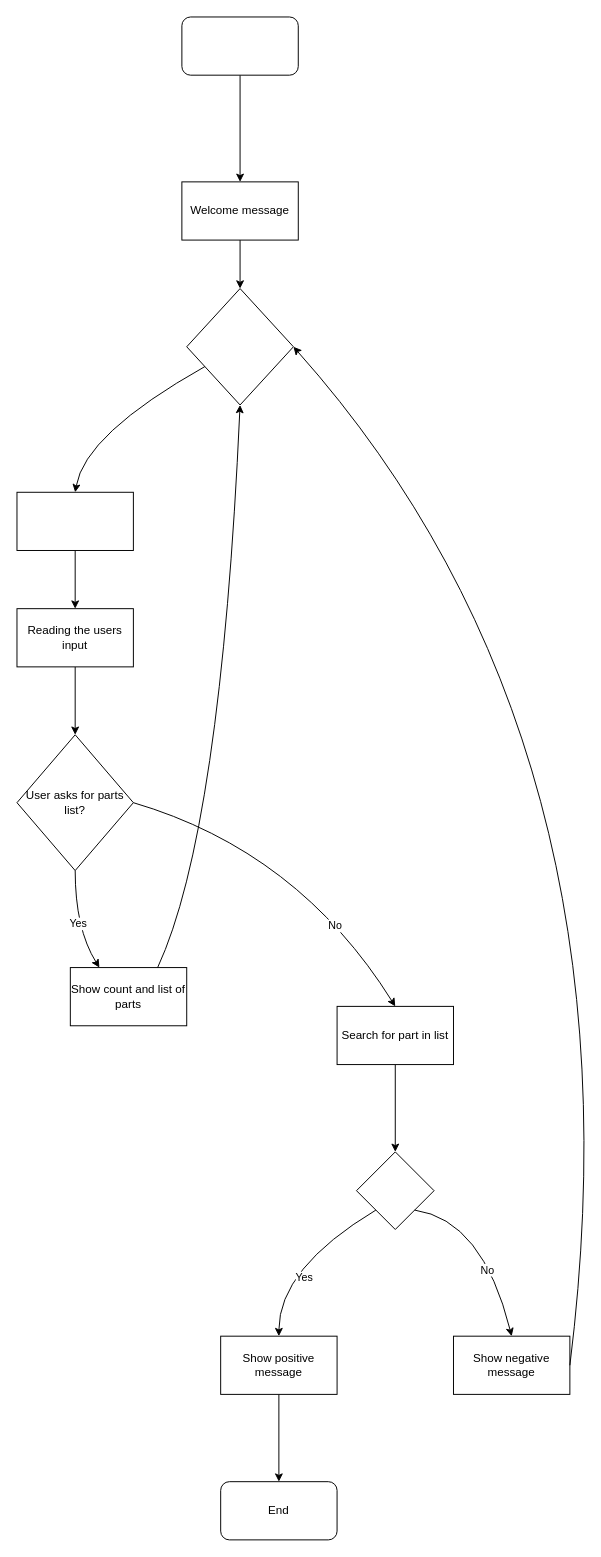
Image size: 601x1557. Some labels were removed from this diagram. Each missing label, with the box of its shape:
Ask which part: (16, 491, 133, 550)
Found?: (356, 1151, 434, 1229)
Start: (181, 16, 298, 75)
Start infinite loop: (186, 288, 293, 405)
